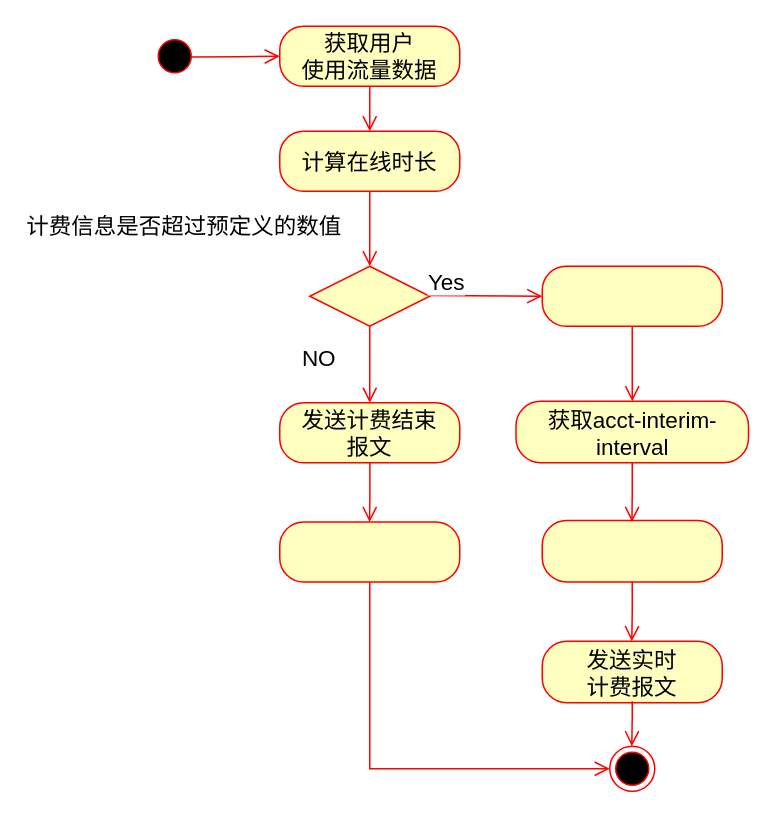
Image size: 776x818. Some labels were removed from this diagram. Here are the shapes that lost their labels. From the top down, the centre of each, then its label:
At pixel 631 295: "获取acct-session-id".
At pixel 369 551: "去授权".
At pixel 631 550: "启动计费定时器".
